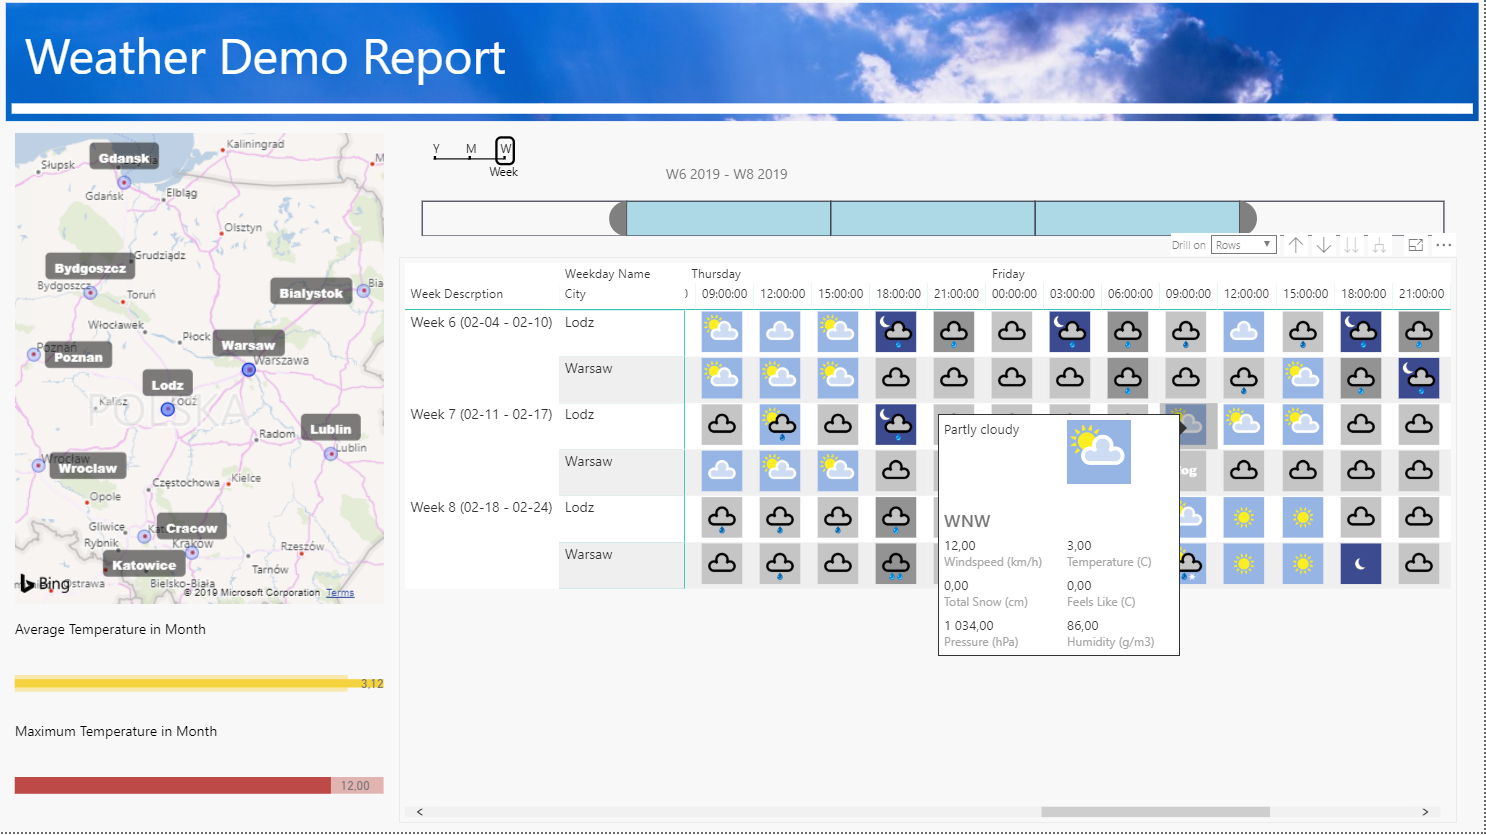

This screenshot's page, from the dashboard's own definition file:
{"tool":"powerbi","page":{"name":"Main","canvas":[1280,720],"ordinal":0},"visuals":[{"type":"image","box":[0,0,1280,112],"z":0},{"type":"map","fields":{"Category":["Location.Locations.City"]},"box":[8,112,328,416],"z":4},{"type":"Timeline1447991079100","fields":{"Time":["Date.Date"]},"box":[344,112,936,112],"z":5},{"type":"pivotTable","fields":{"Rows":["Date.Week Descrption","Location.Locations.City"],"Columns":["Date.Week Hierarchy.Weekday Name","Historical Weather.Time Of Observation"],"Values":["Min(Historical Weather.Weather Icon Url)"]},"box":[344,224,912,488],"z":6},{"type":"basicShape","box":[0,80,1280,32],"z":2000},{"type":"textbox","box":[16,16,568,72],"z":2500},{"type":"barChart","fields":{"Y":["Historical Weather.Temperature Monthly Avg"]},"box":[8,536,328,88],"z":2501},{"type":"barChart","fields":{"Y":["Historical Weather.Temperature Monthly Max"]},"box":[8,624,328,88],"z":2502}]}

Visuals, with their boxes on the page's 1280x720 design canvas (x1, y1, x2, y2). These are canvas units, not pixel positions in the 1486x835 screenshot, which may show the page scaled, cropped or inside an application window:
image: [0,0,1280,112]
map - Location.Locations.City: [8,112,336,528]
Timeline1447991079100 - Date.Date: [344,112,1280,224]
pivotTable - Date.Week Descrption x Location.Locations.City: [344,224,1256,712]
basicShape: [0,80,1280,112]
textbox: [16,16,584,88]
barChart - Historical Weather.Temperature Monthly Avg: [8,536,336,624]
barChart - Historical Weather.Temperature Monthly Max: [8,624,336,712]
